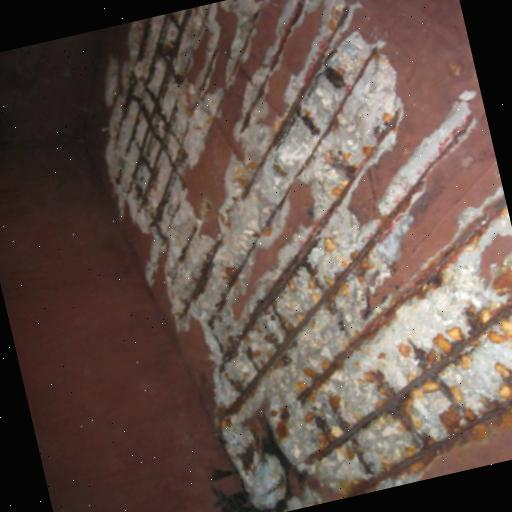spalling: (82, 0, 512, 512)
